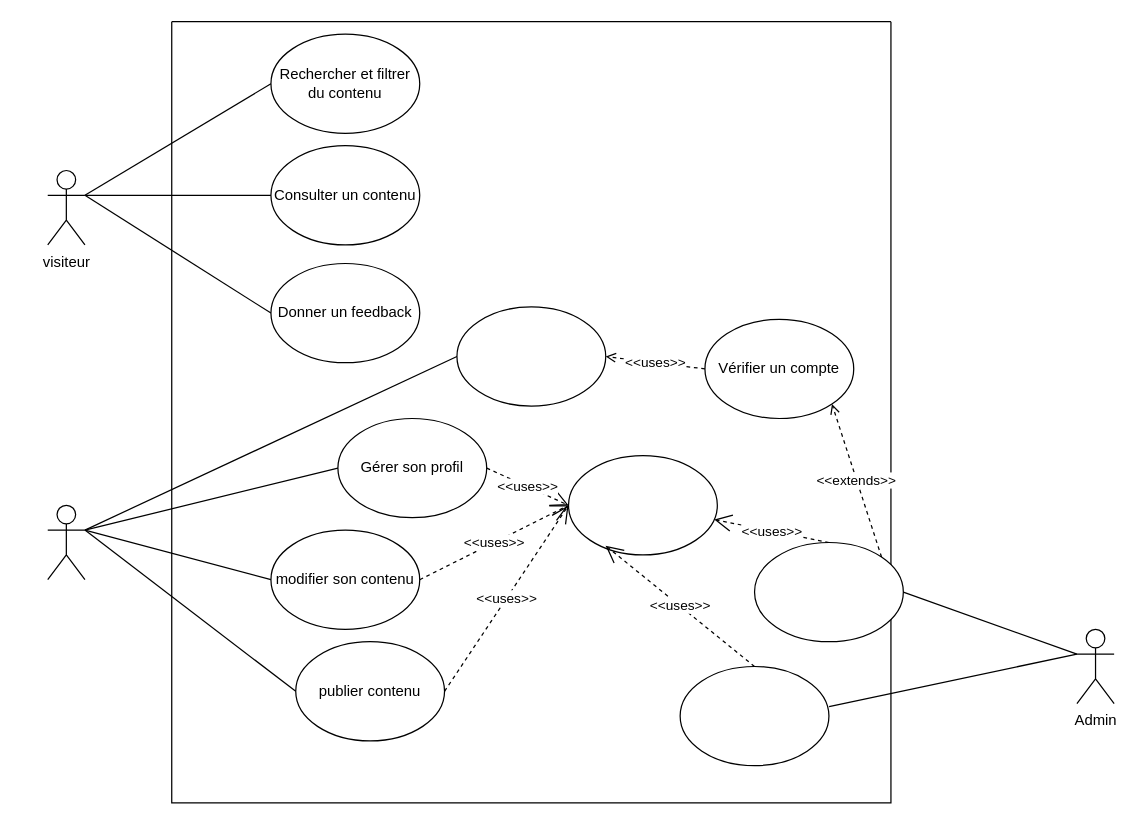
This 1138x825 diagram has some shape labels left out. Each missing label, with the box of its shape:
Demande de compte: (456, 306, 606, 406)
Gèrer les comptes: (753, 541, 903, 642)
Gérer le contenu: (679, 665, 829, 766)
Peintre vérifié: (46, 504, 85, 580)
S'authentifier: (567, 454, 717, 555)
